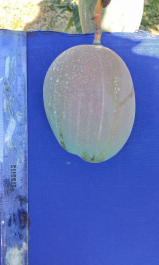Mango-sano: (43, 44, 135, 162)
